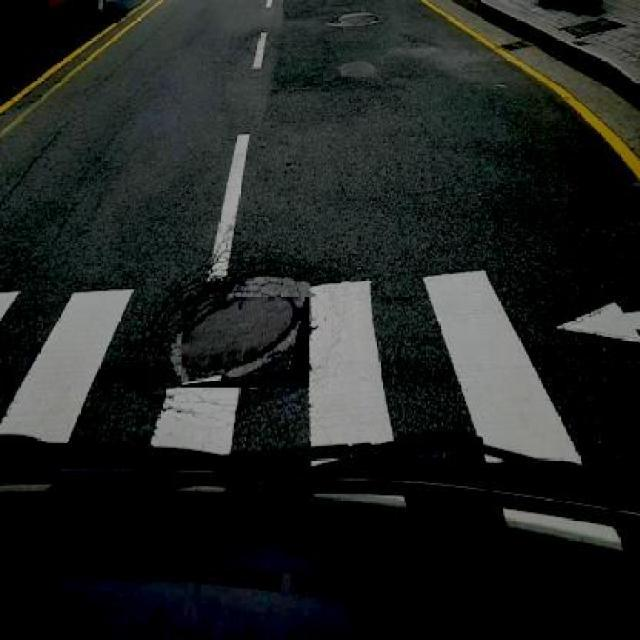Manhole: (182, 297, 310, 388), (554, 7, 640, 38)
Pothole: (312, 0, 400, 40), (330, 47, 396, 91), (396, 31, 446, 52)
